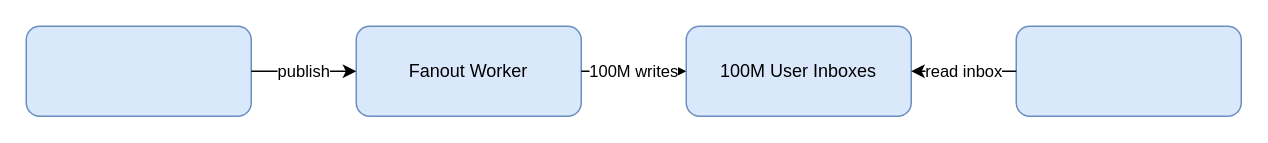
Some shapes in this 1268 by 143 pixel diagram are drawn without their labels. Each missing label, with the box of its shape:
Celebrity: (25, 25, 251, 116)
Feed API: (1015, 25, 1241, 116)
